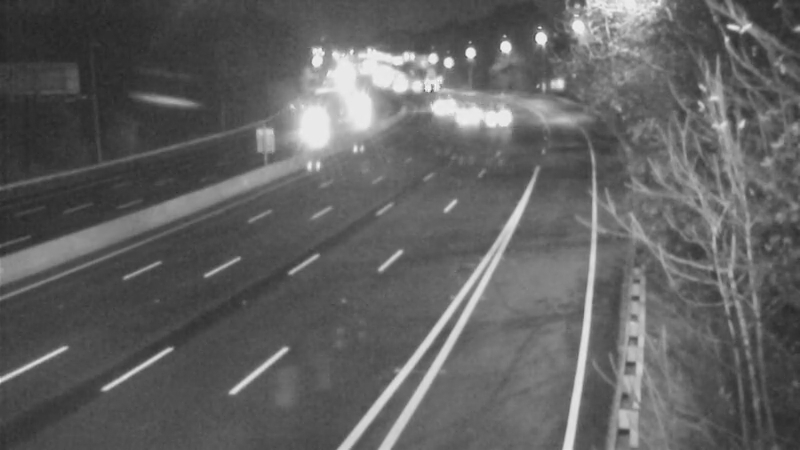vehicle: (418, 79, 468, 129), (439, 89, 489, 139), (471, 86, 521, 136), (283, 101, 333, 151), (332, 84, 382, 134)
